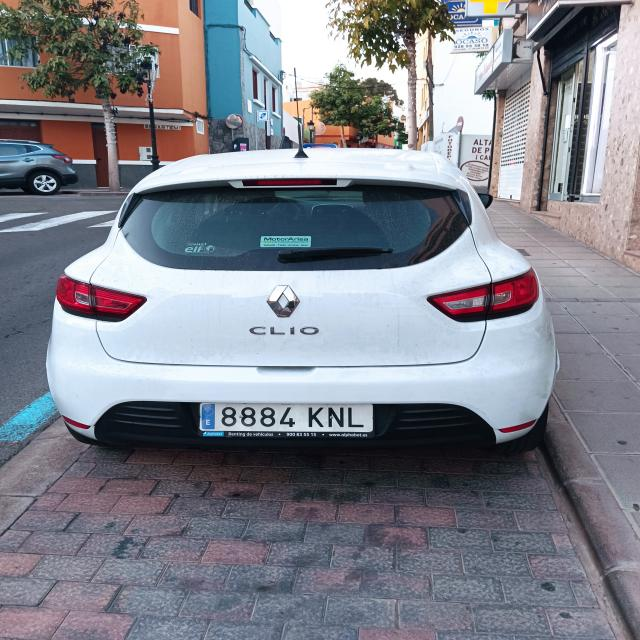football: (200, 403, 372, 431)
